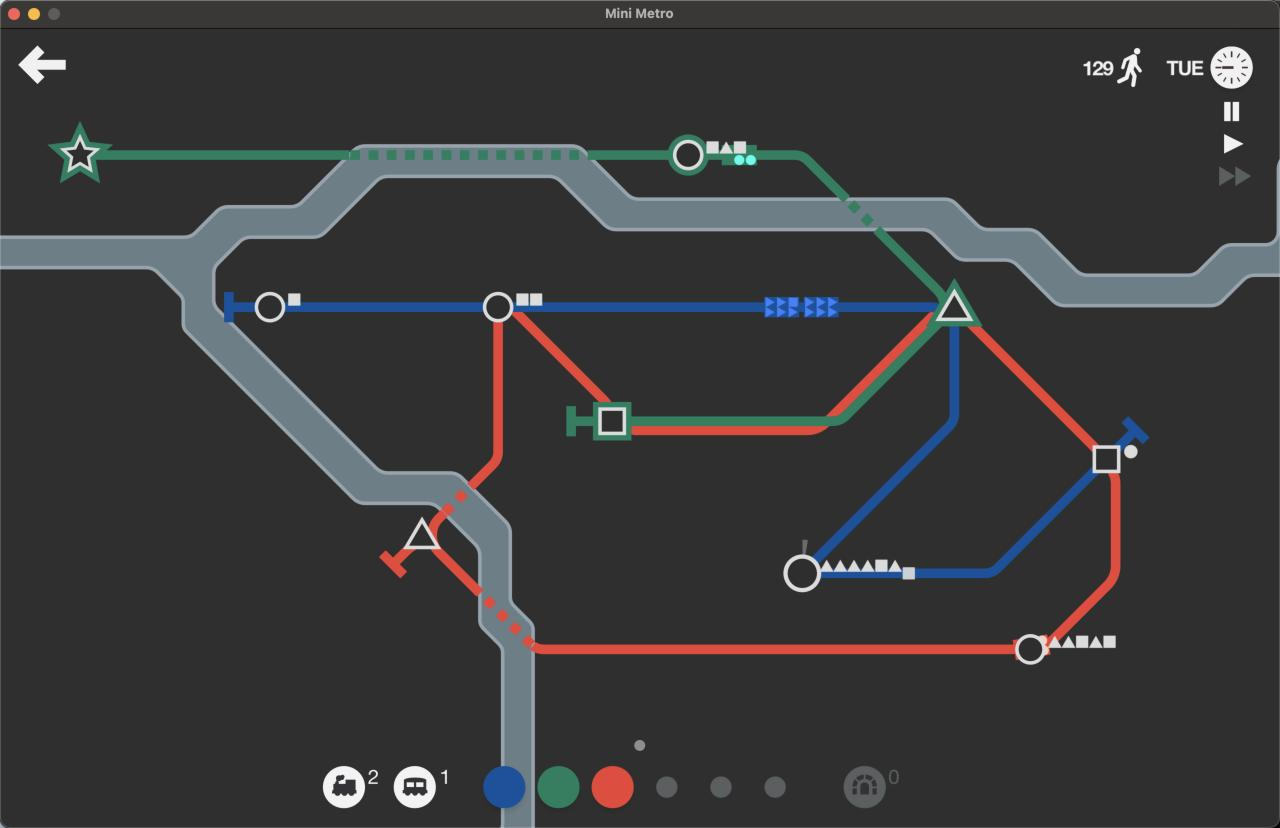CIRCLE: (782, 553, 823, 594), (1014, 633, 1047, 666), (254, 291, 286, 324), (482, 291, 514, 323), (673, 139, 703, 170)
SQUARE: (593, 402, 631, 440), (1092, 445, 1121, 474)
STAR: (46, 121, 111, 182)
TRIANGLE: (933, 286, 977, 325), (403, 515, 442, 551)
